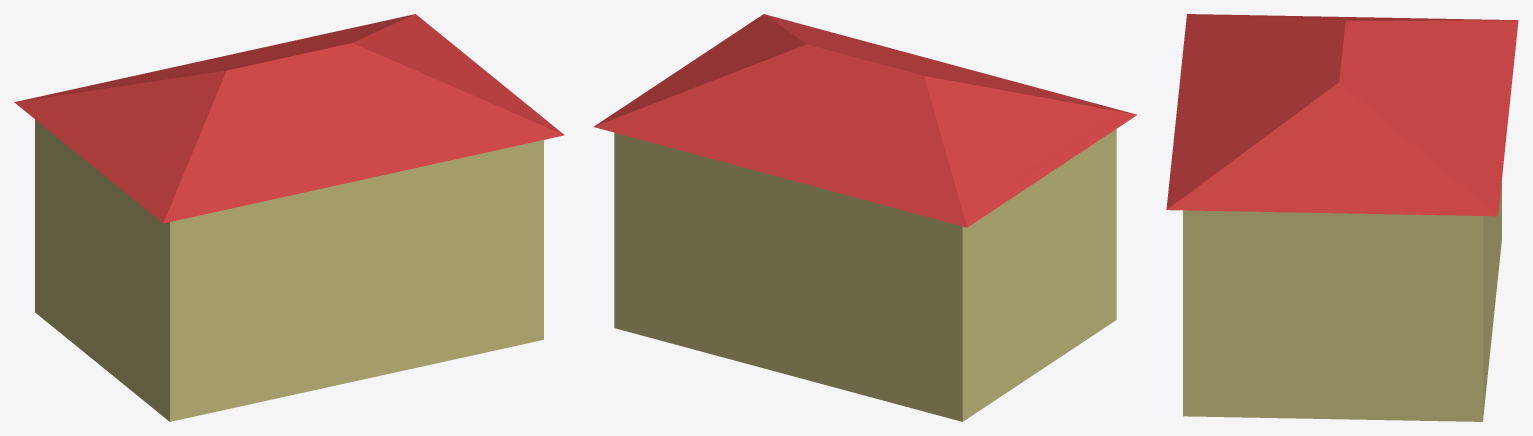
3 renders of one model, left to right at view 1: azimuth 30°, elevation 25°; view 2: azimuth 150°, elevation 25°; view 3: azimuth 270°, elevation 25°, orthographic. The views are drawn at different scales.
Size of the model in its own units: 15.08 by 11.09 by 9.61.
